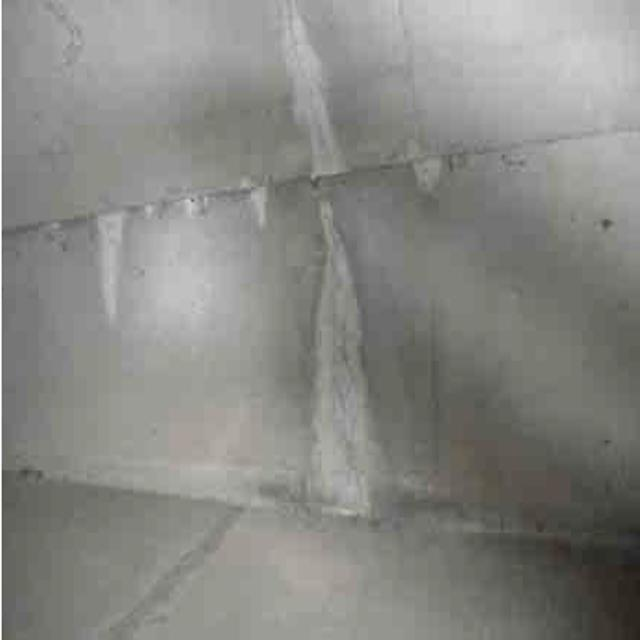freelime: (306, 186, 384, 527), (277, 17, 354, 169), (83, 202, 130, 327)
